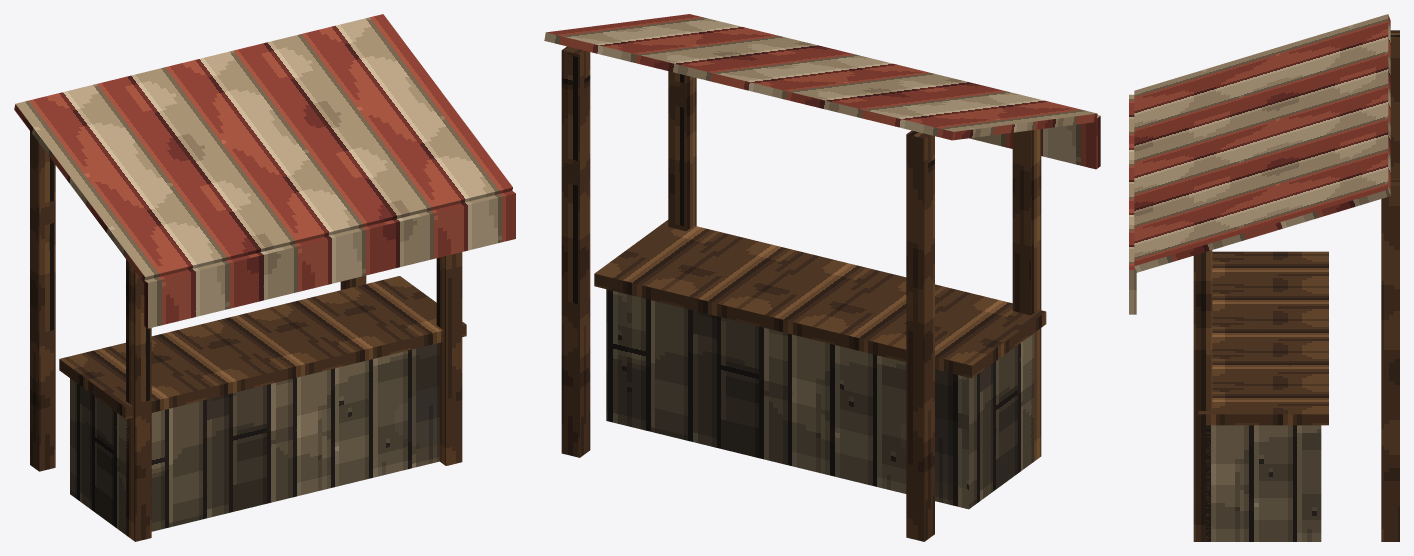
File: MV_MarketStall.glb
3 renders of one model, left to right at view 1: azimuth 30°, elevation 25°; view 2: azimuth 150°, elevation 25°; view 3: azimuth 270°, elevation 25°, orthographic. The views are drawn at different scales.
Parts seen in each view (by area): view 1: MV_MarketStall_A.MV_MarketStall; view 2: MV_MarketStall_A.MV_MarketStall; view 3: MV_MarketStall_A.MV_MarketStall.
Part boxes in pixels (x1,y1,x2,y2): MV_MarketStall_A.MV_MarketStall: [14, 14, 515, 541]; MV_MarketStall_A.MV_MarketStall: [544, 14, 1100, 541]; MV_MarketStall_A.MV_MarketStall: [1129, 14, 1399, 541].
Bounding box in the file's own units: 2.7 × 2.6 × 1.76.
3 materials, 3 textured.
